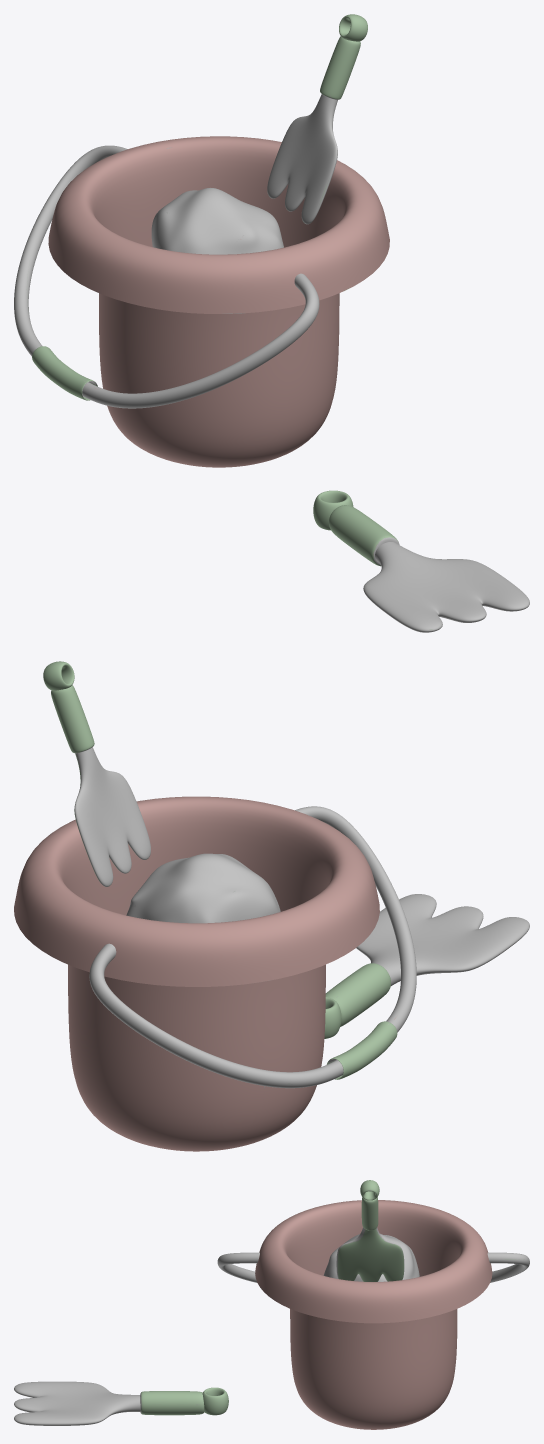
File: triangle flag banners_Keiko.glb
The picture shows the model from 3 angles, top to bottom: view 1: azimuth 30°, elevation 25°; view 2: azimuth 150°, elevation 25°; view 3: azimuth 270°, elevation 25°; orthographic projection. The views are drawn at different scales.
Visible parts, largest first — view 1: 4; view 2: 4; view 3: 4.
Part boxes in pixels (x1,y1,x2,y2): 4: (14,14,529,632); 4: (14,661,529,1151); 4: (14,1180,529,1429).
Bounding box in the file's own units: 2.69 × 3.28 × 5.53.
Materials: 1 (1 with a texture image).
